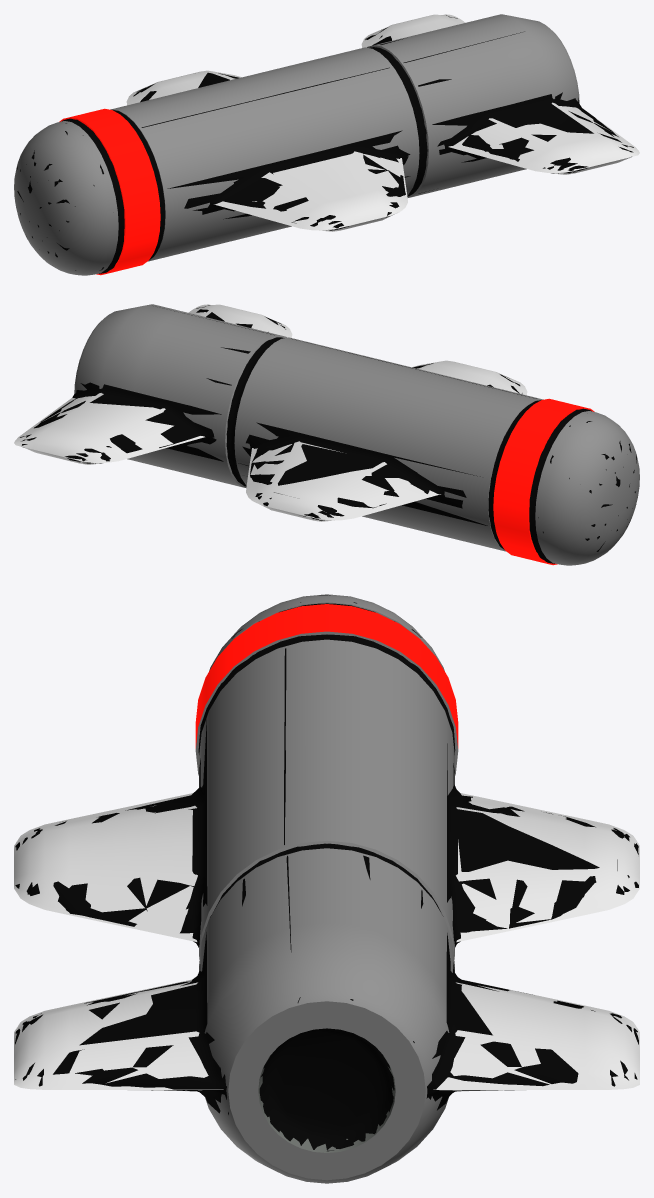
Rendered from newsh5-267.glb.
The picture shows the model from 3 angles, top to bottom: view 1: azimuth 30°, elevation 25°; view 2: azimuth 150°, elevation 25°; view 3: azimuth 270°, elevation 25°; orthographic projection. The views are drawn at different scales.
Parts seen in each view (by area): view 1: newsh5-267, newsh5-267_outline; view 2: newsh5-267, newsh5-267_outline; view 3: newsh5-267, newsh5-267_outline.
Boxes of the visible parts, x1,y1,x2,y2 form: newsh5-267: [14, 14, 639, 275]; newsh5-267_outline: [15, 15, 633, 273]; newsh5-267: [14, 304, 639, 565]; newsh5-267_outline: [20, 305, 636, 563]; newsh5-267: [14, 594, 639, 1183]; newsh5-267_outline: [15, 595, 638, 1151].
Size of the model in its own units: 0.9167 by 0.2483 by 0.5917.
